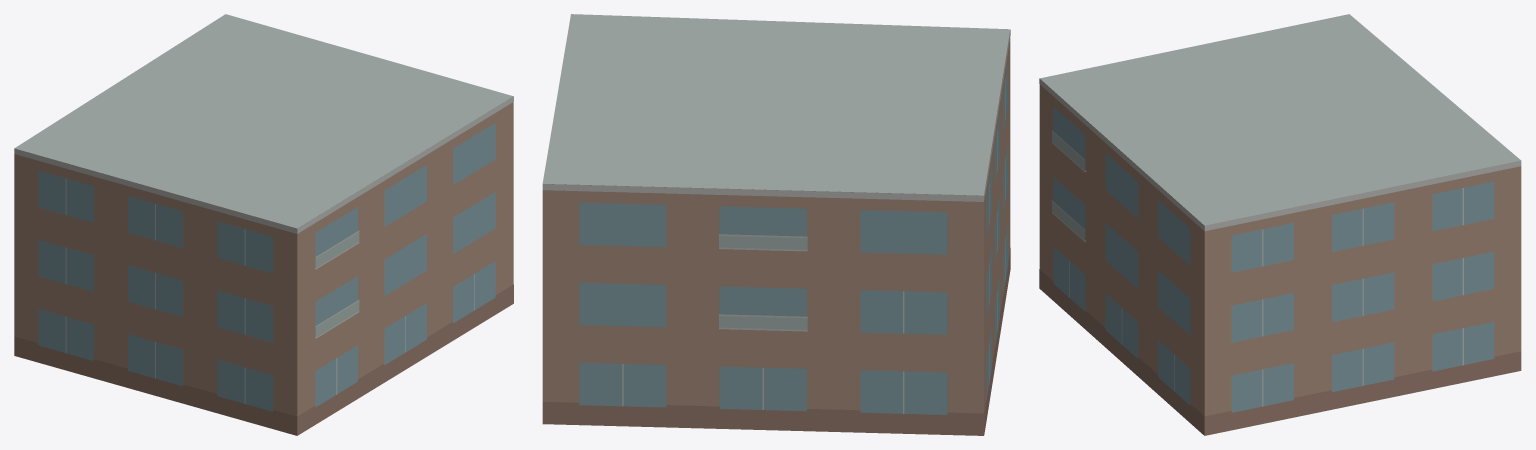
File: survey-upis-33001114.glb
3 views of the same model, side by side, from view 1: azimuth 30°, elevation 25°; view 2: azimuth 150°, elevation 25°; view 3: azimuth 270°, elevation 25° (orthographic). The views are drawn at different scales.
Parts seen in each view (by area): view 1: survey-upis-33001114.tmp; view 2: survey-upis-33001114.tmp; view 3: survey-upis-33001114.tmp.
Boxes of the visible parts, <box> form: survey-upis-33001114.tmp: <box>14,14,513,435</box>; survey-upis-33001114.tmp: <box>542,14,1010,435</box>; survey-upis-33001114.tmp: <box>1039,14,1521,435</box>.
Size of the model in its own units: 19.77 by 9.15 by 19.02.
